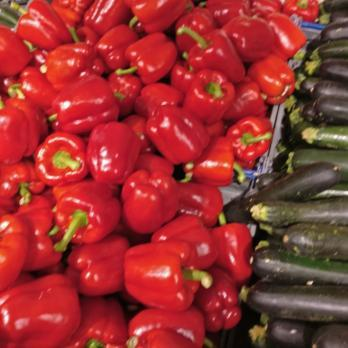Capsicum: (1, 1, 243, 348), (221, 0, 289, 165)
